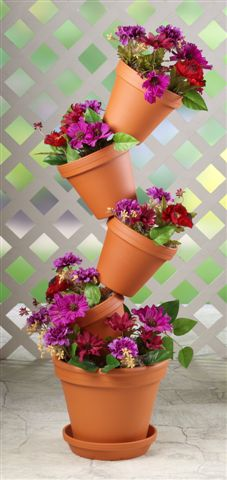tire: (55, 351, 171, 460), (103, 61, 183, 144), (58, 141, 144, 218), (97, 216, 178, 294), (62, 291, 126, 346)
